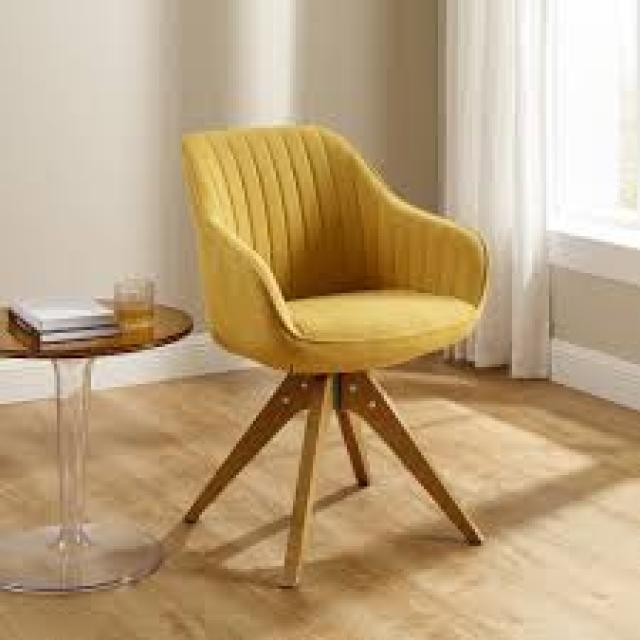chair: (97, 109, 540, 640)
